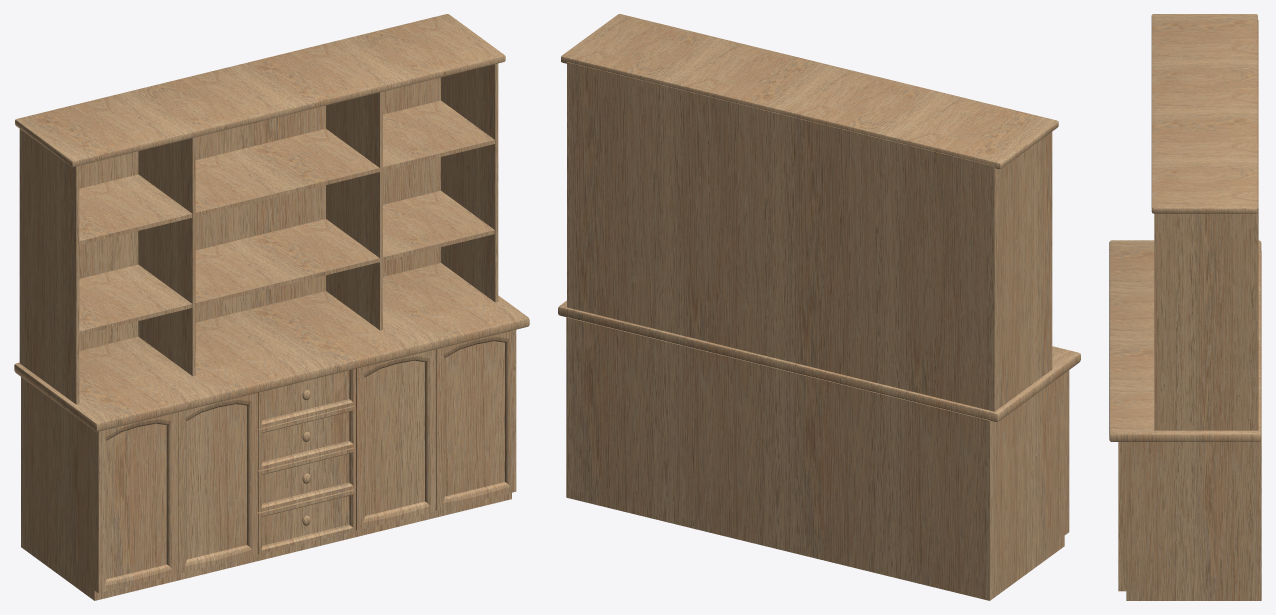
The model's file is Decoration cupboard set.FBX.
3 views of the same model, side by side, from view 1: azimuth 30°, elevation 25°; view 2: azimuth 150°, elevation 25°; view 3: azimuth 270°, elevation 25° (orthographic). The views are drawn at different scales.
Parts seen in each view (by area): view 1: Decoration cupboard set; view 2: Decoration cupboard set; view 3: Decoration cupboard set.
Part boxes in pixels (x1,y1,x2,y2): Decoration cupboard set: (14,14,529,600); Decoration cupboard set: (558,14,1080,600); Decoration cupboard set: (1109,14,1261,600).
Size of the model in its own units: 246 by 233 by 81.24.
1 material, 1 textured.
